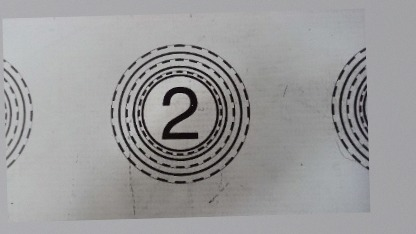2r: (105, 42, 252, 186)
